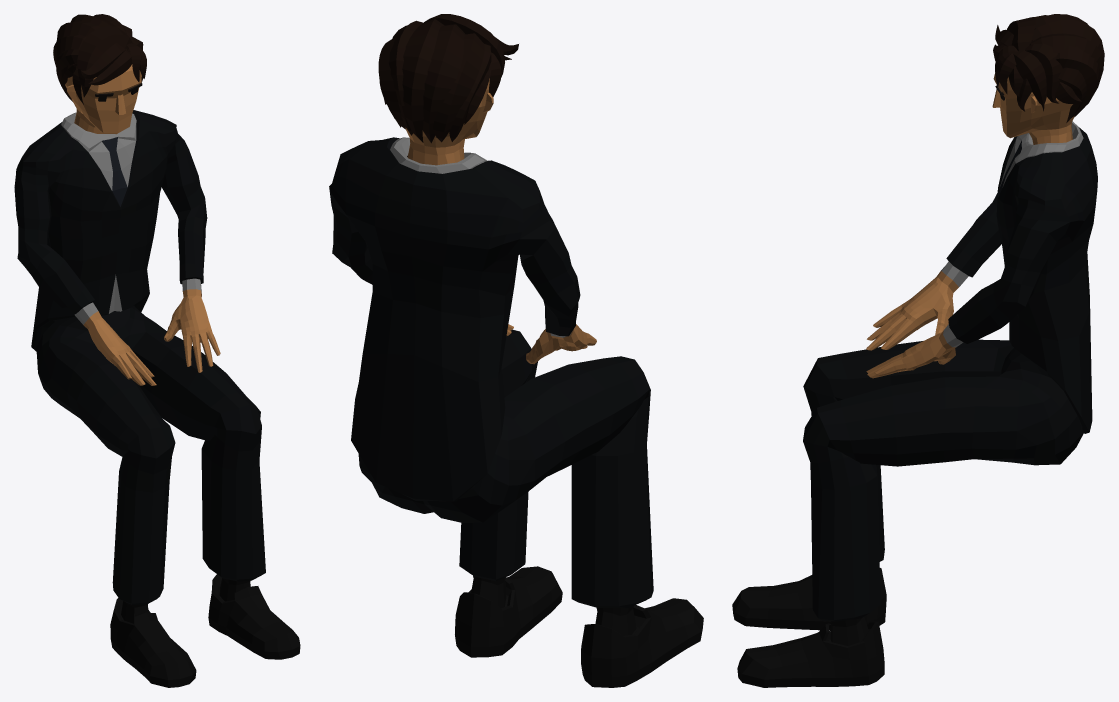
Rendered from m_suit.obj.
The picture shows the model from 3 angles, left to right: view 1: azimuth 30°, elevation 25°; view 2: azimuth 150°, elevation 25°; view 3: azimuth 270°, elevation 25°; orthographic projection. The views are drawn at different scales.
Visible parts, largest first — view 1: Suit_Legs, Suit_Body, Suit_Feet, Suit_Head; view 2: Suit_Body, Suit_Legs, Suit_Feet, Suit_Head; view 3: Suit_Legs, Suit_Body, Suit_Feet, Suit_Head.
Part boxes in pixels (box(x1,y1,x2,y2)): Suit_Legs: box(36, 305, 265, 604); Suit_Body: box(14, 110, 220, 385); Suit_Feet: box(110, 574, 300, 687); Suit_Head: box(53, 14, 146, 134); Suit_Body: box(329, 137, 596, 501); Suit_Legs: box(358, 329, 653, 608); Suit_Feet: box(455, 566, 703, 687); Suit_Head: box(378, 14, 518, 165); Suit_Legs: box(803, 339, 1083, 621); Suit_Body: box(866, 121, 1097, 433); Suit_Feet: box(732, 568, 886, 687); Suit_Head: box(992, 14, 1104, 144).
Bounding box in the file's own units: 0.4765 × 1.34 × 0.7185.
